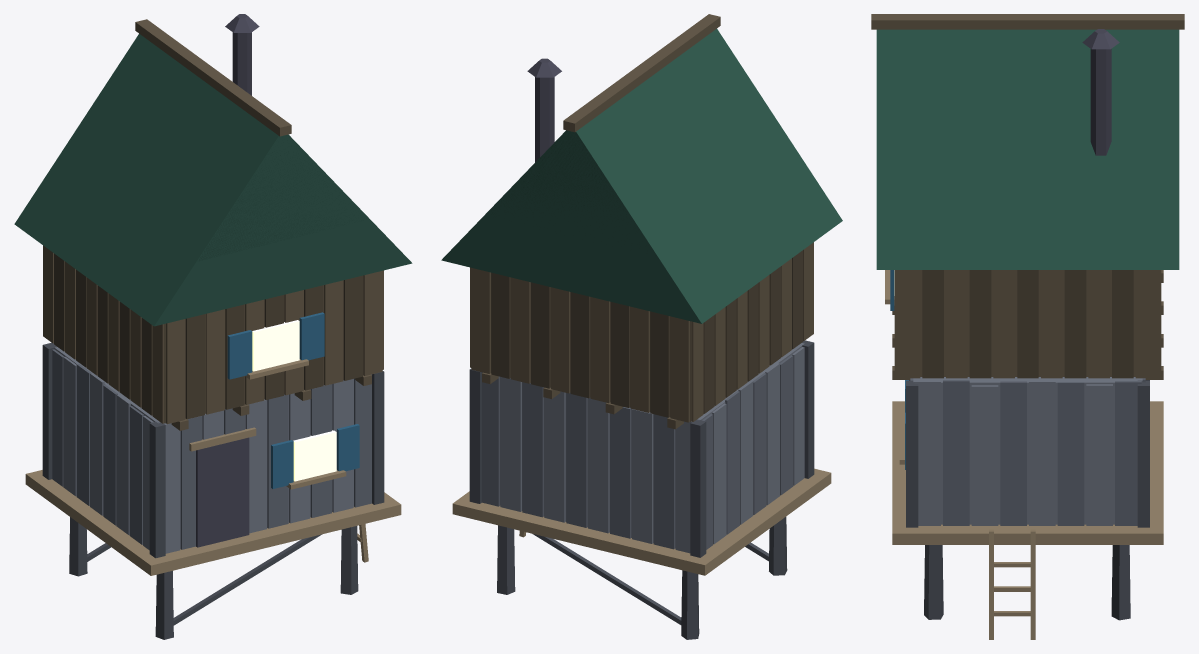
Rendered from house_tall.glb.
The picture shows the model from 3 angles, left to right: view 1: azimuth 30°, elevation 25°; view 2: azimuth 150°, elevation 25°; view 3: azimuth 270°, elevation 25°; orthographic projection. The views are drawn at different scales.
Visible parts, largest first — view 1: pine_d10, driftwood_d50, slate_d8, slate_l5, driftwood_d60, slate_d30, driftwood_d25, ink_l20, tide_d15, kindle_glow, pine_d25; view 2: pine_d10, driftwood_d50, slate_l5, slate_d8, driftwood_d60, slate_d30, driftwood_d25, ink_l20, pine_d25; view 3: pine_d10, driftwood_d50, slate_l5, slate_d8, driftwood_d60, driftwood_d25, slate_d30, ink_l20.
Part boxes in pixels (left/top/right/bottom): pine_d10: left=14, top=33, right=412, bottom=326; driftwood_d50: left=43, top=19, right=383, bottom=430; slate_d8: left=52, top=349, right=371, bottom=549; slate_l5: left=54, top=347, right=353, bottom=553; driftwood_d60: left=54, top=253, right=362, bottom=419; slate_d30: left=42, top=342, right=384, bottom=639; driftwood_d25: left=25, top=359, right=401, bottom=575; ink_l20: left=196, top=14, right=259, bottom=547; tide_d15: left=227, top=312, right=359, bottom=488; kindle_glow: left=252, top=320, right=336, bottom=481; pine_d25: left=199, top=137, right=366, bottom=261; pine_d10: left=441, top=29, right=842, bottom=323; driftwood_d50: left=470, top=14, right=813, bottom=429; slate_l5: left=500, top=343, right=804, bottom=553; slate_d8: left=482, top=355, right=793, bottom=549; driftwood_d60: left=491, top=250, right=802, bottom=417; slate_d30: left=469, top=340, right=814, bottom=639; driftwood_d25: left=452, top=468, right=831, bottom=575; ink_l20: left=527, top=58, right=561, bottom=162; pine_d25: left=491, top=130, right=630, bottom=225; pine_d10: left=876, top=29, right=1179, bottom=269; driftwood_d50: left=871, top=14, right=1184, bottom=379; slate_l5: left=913, top=377, right=1142, bottom=525; slate_d8: left=910, top=378, right=1145, bottom=525; driftwood_d60: left=922, top=270, right=1133, bottom=378; driftwood_d25: left=885, top=270, right=1163, bottom=639; slate_d30: left=906, top=380, right=1149, bottom=620; ink_l20: left=909, top=29, right=1119, bottom=380.
Bounding box in the file's own units: 3.19 × 6.02 × 3.
